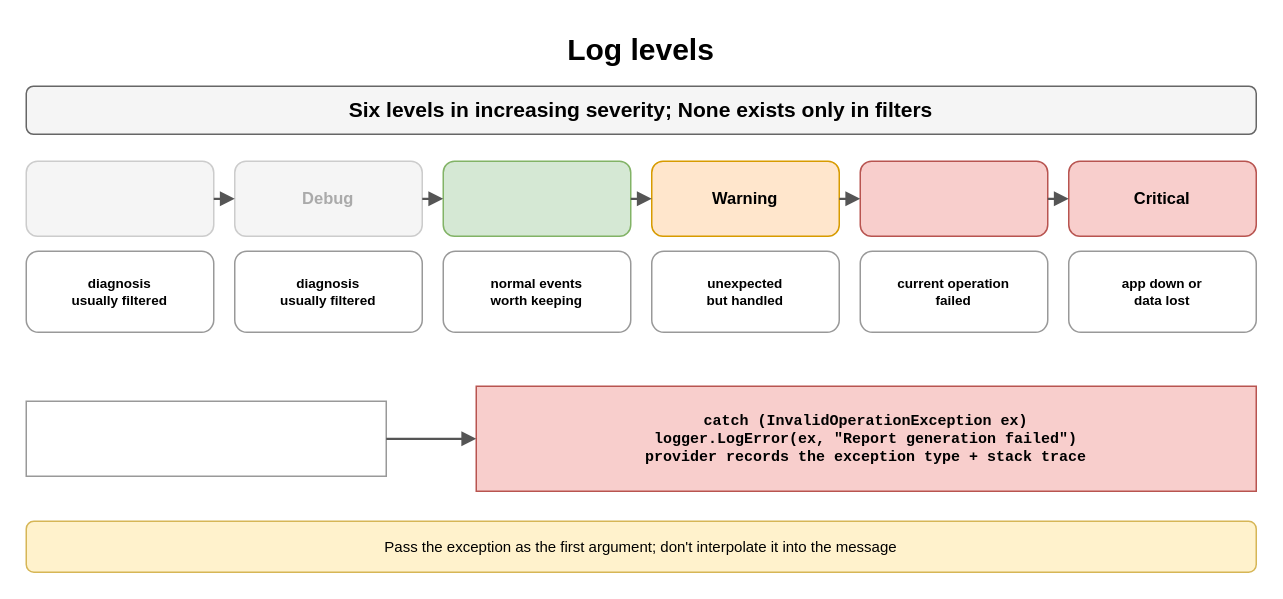
Some shapes in this 1283 by 599 pixel diagram are drawn without their labels. Each missing label, with the centre of its shape:
Error: point 953,198
GET /report?fail=true: point 205,438
Information: point 536,198
Trace: point 119,198
